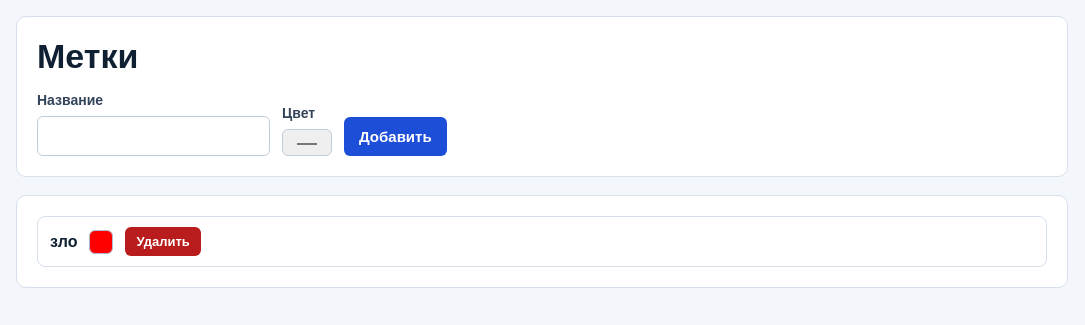
shows a short fallback when a 409 response has no detail
Expected: the text "зло" is shown, [50, 232, 78, 250]
Click the button "Удалить" at (163,242), box [126, 227, 201, 256]
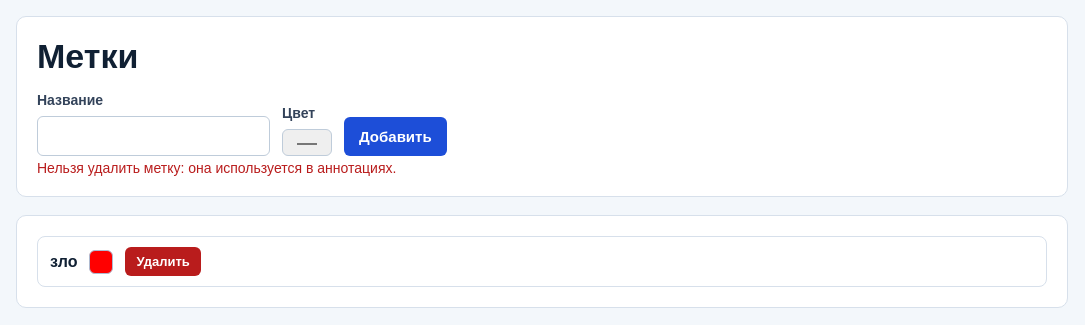
Expected: the text "Нельзя удалить метку: она используется в аннотациях." is shown, [37, 160, 396, 176]
